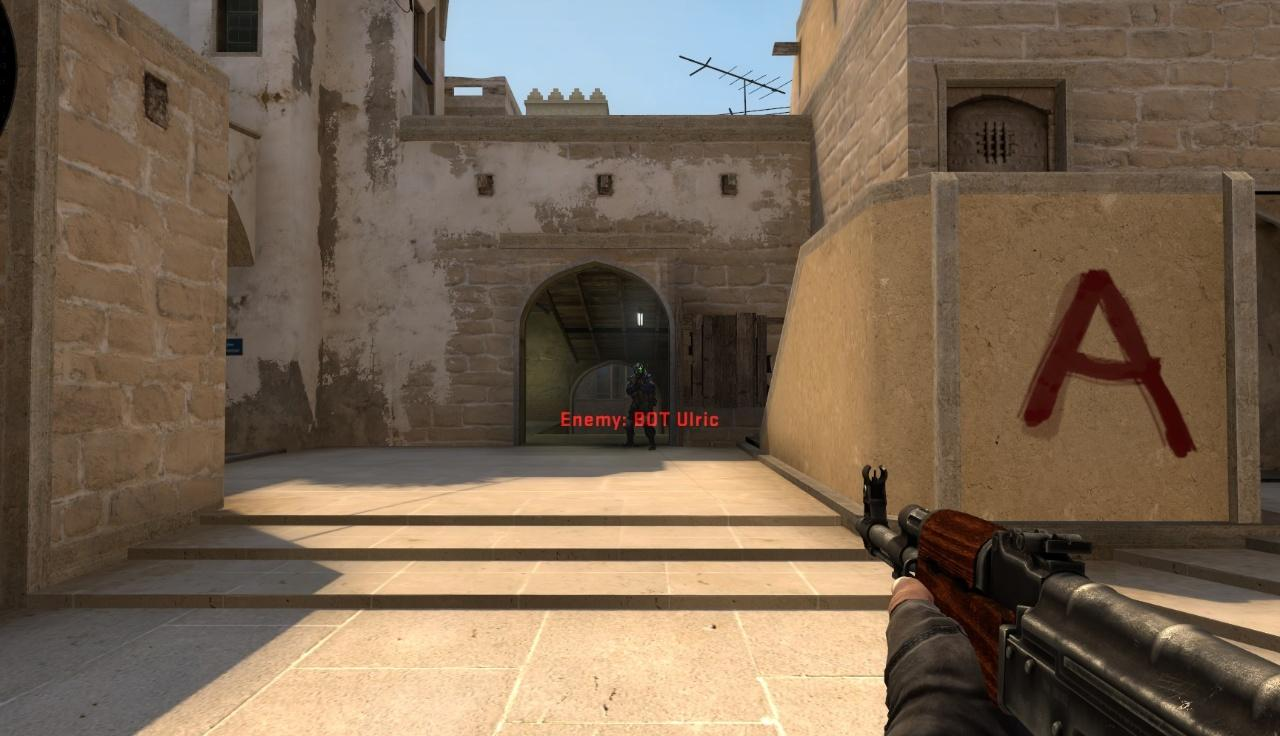ct: (625, 364, 657, 451)
cthead: (634, 362, 647, 376)
rifle: (855, 464, 1280, 736)
